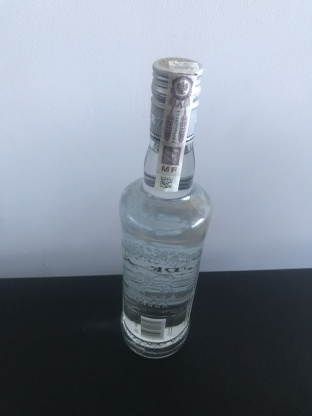nakretka: (148, 53, 205, 149)
